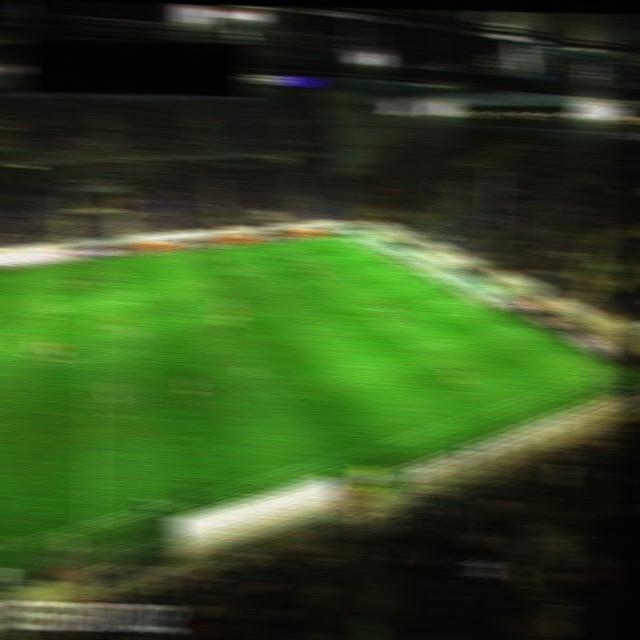bigarea_bottom_inner: (408, 343, 429, 355)
bigarea_bottom_outter: (506, 321, 527, 332)
bigarea_top_inner: (285, 254, 307, 265)
bigarea_top_outter: (361, 246, 382, 259)
bottom_arc_area_intersection: (355, 303, 376, 314)
corner: (329, 233, 350, 244)
halfcircle_bottom: (81, 353, 104, 365)
halfcircle_top: (83, 297, 104, 309)
midline_bottom_intersection: (79, 519, 101, 531)
midline_top_intersection: (84, 254, 107, 266)
smallarea_bottom_inner: (426, 298, 447, 310)
smallarea_bottom_outter: (453, 291, 476, 304)
smallarea_top_inner: (364, 263, 386, 275)
smallarea_top_outter: (390, 261, 413, 272)
top_arc_area_intersection: (313, 272, 334, 283)
